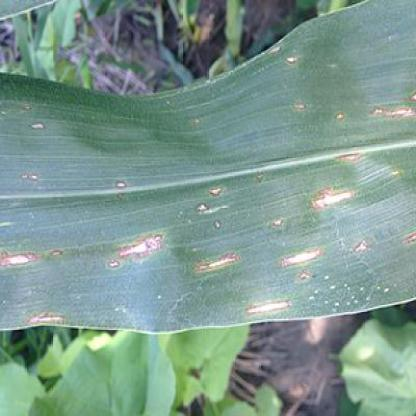Corn leaf blight: (1, 12, 415, 345)
